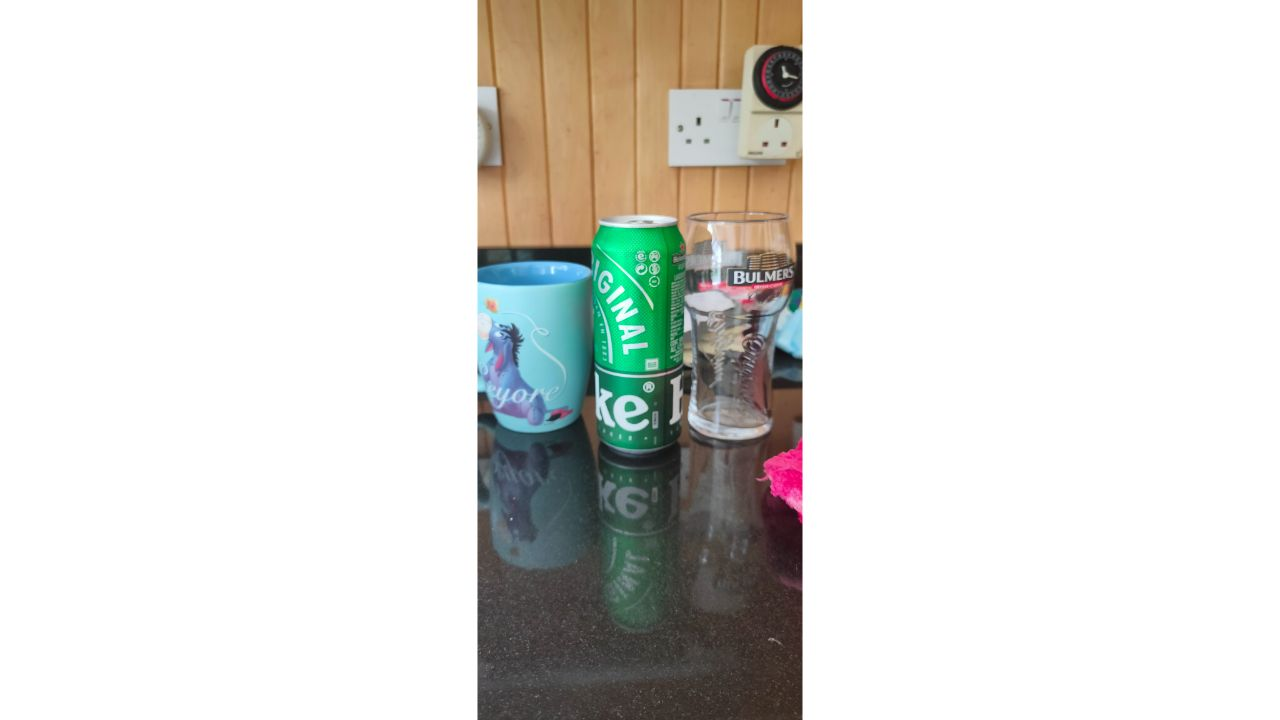Can: (595, 217, 688, 461)
